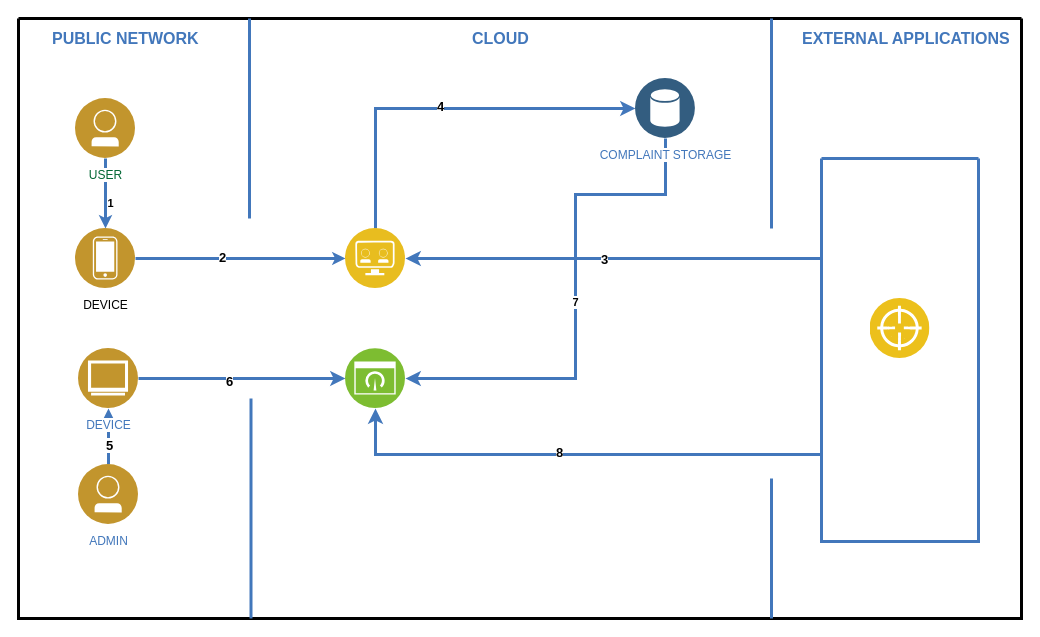
The diagram is 1040 pixels wide and 637 high, and some of its shapes have lost their labels. Each missing label, with the centre of its shape:
CLEANCITY COMPLAINT PORTAL: pixel 375 258
CLEANCITY COMPLAINTS DASHBOARD: pixel 375 378
HERE API: pixel 900 328
